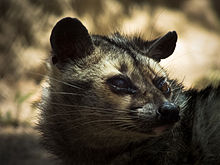Civet: (33, 7, 188, 148)
